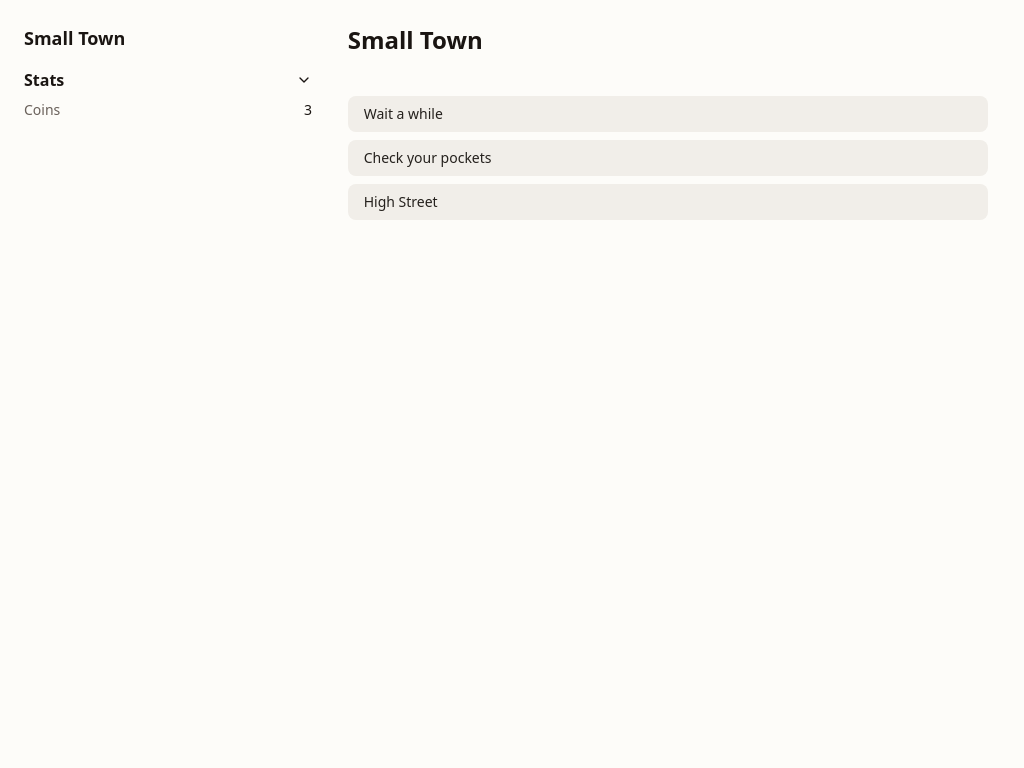
sections › open in a dialog and close again
Click the button "Wait a while": click(403, 114) [348,96,988,132]
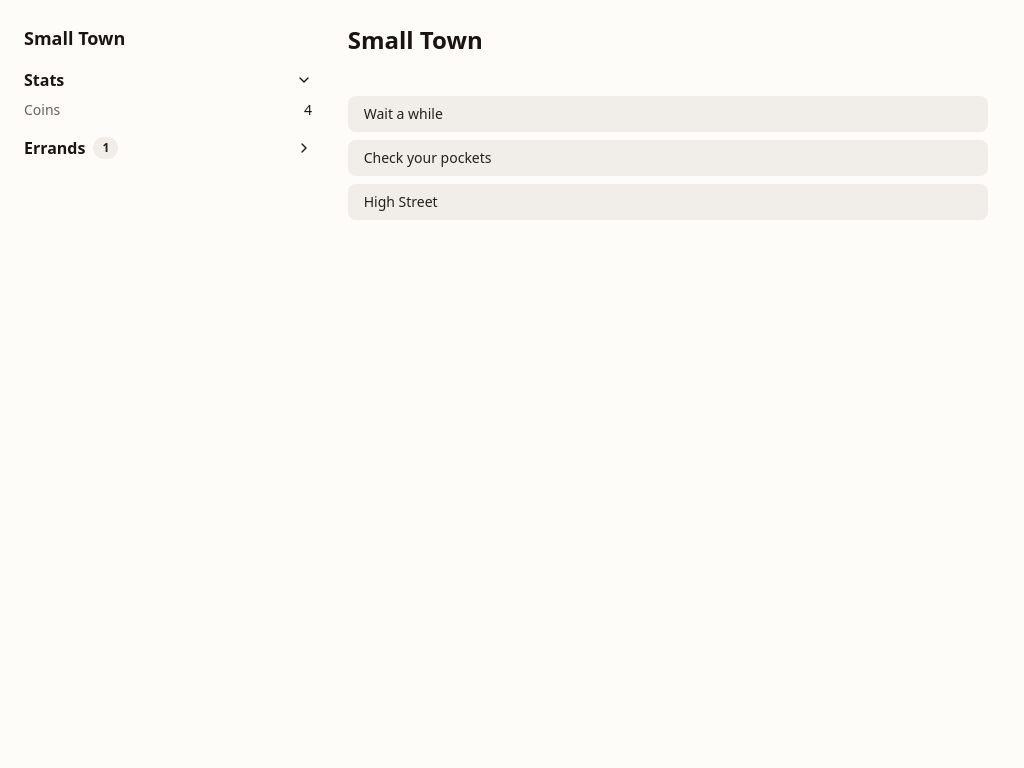
Click the button "Errands 1": click(55, 148) [24,136,312,160]
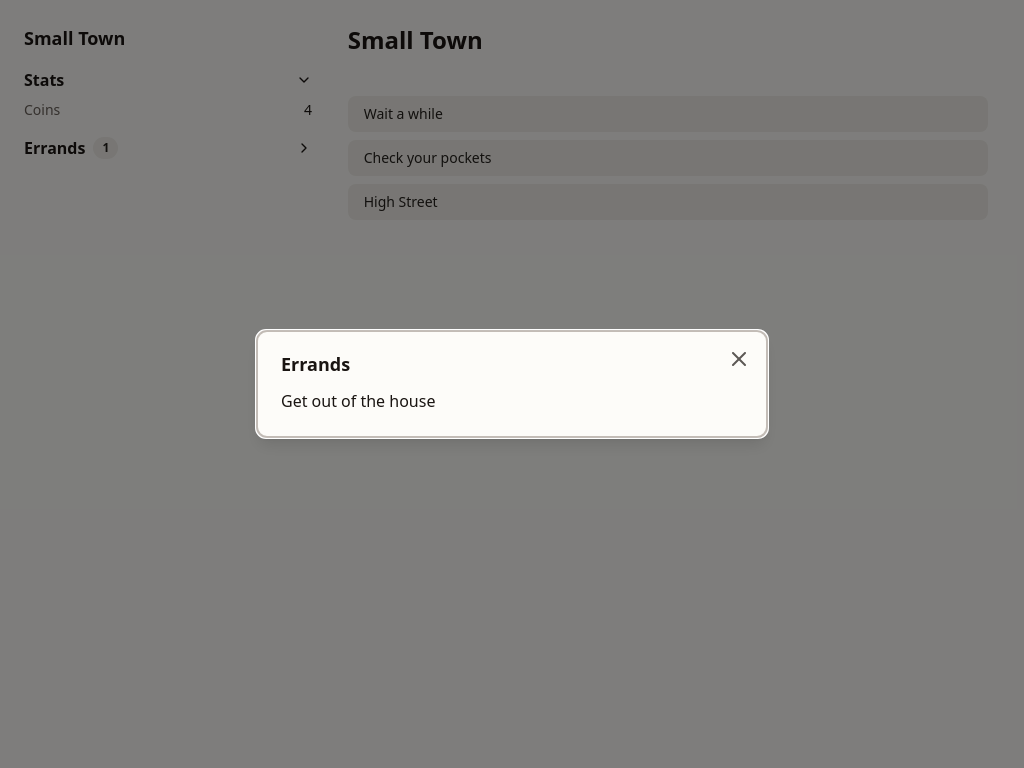
Now the text "Get out of the house" is shown, box [281,390,436,412]
Click the button named "Close": click(739, 359) [727,347,751,371]
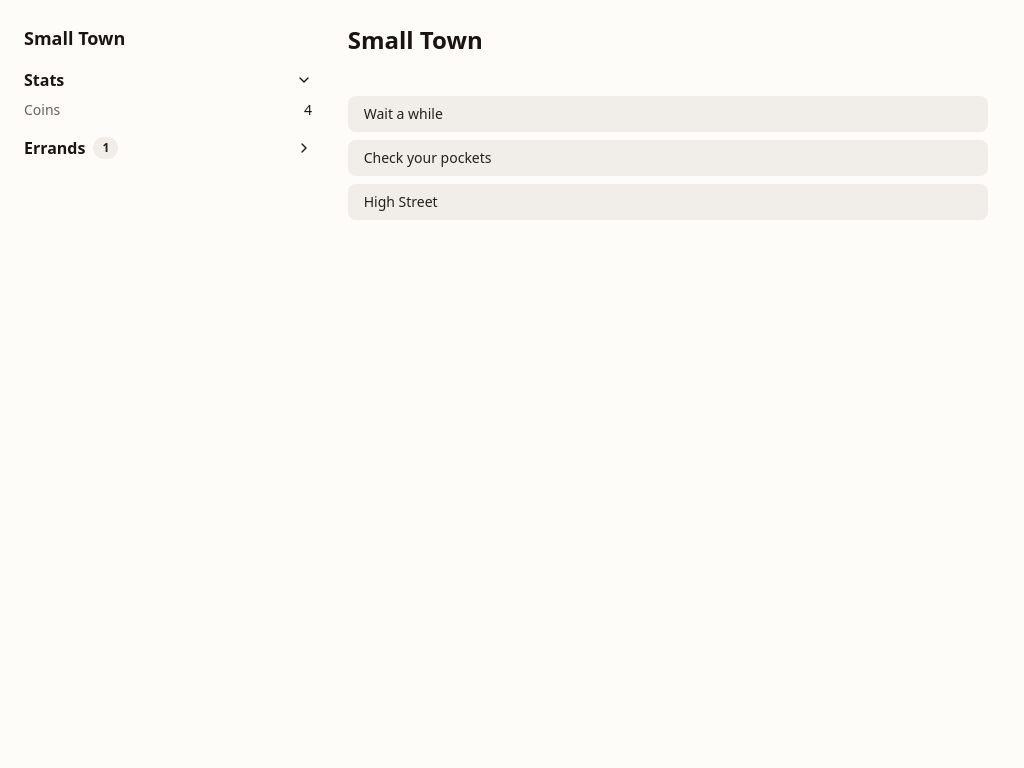
Now the dialog is gone
